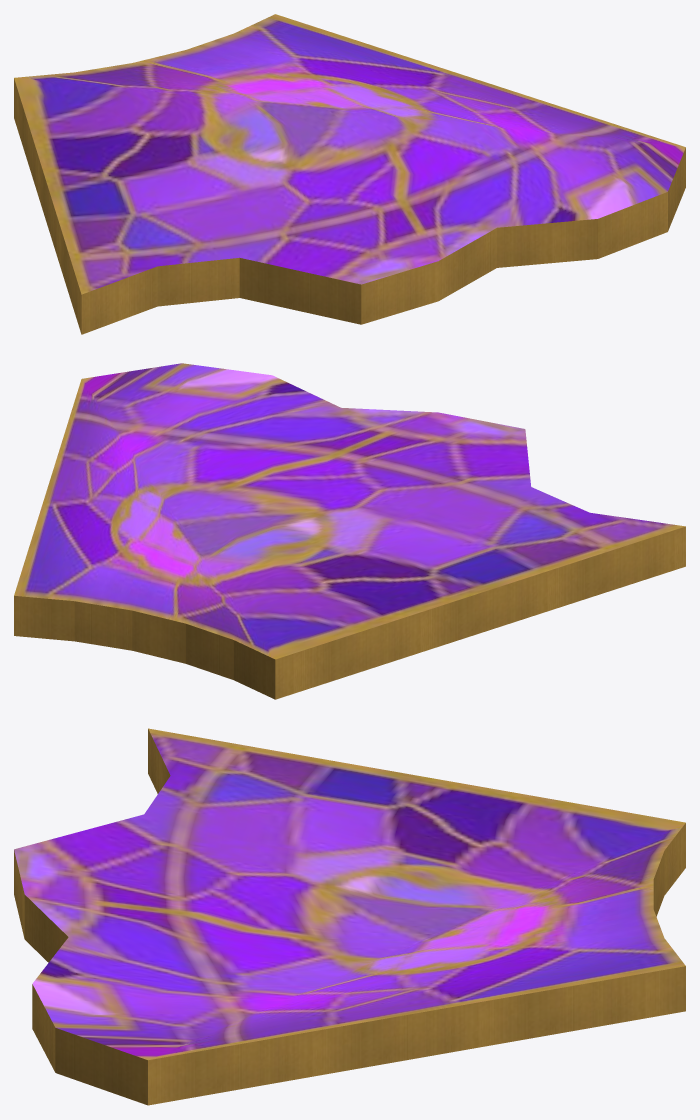
The model's file is lb_chunk_6_0.glb.
The picture shows the model from 3 angles, top to bottom: view 1: azimuth 30°, elevation 25°; view 2: azimuth 150°, elevation 25°; view 3: azimuth 270°, elevation 25°; orthographic projection. The views are drawn at different scales.
Parts seen in each view (by area): view 1: lb_chunk_6_0; view 2: lb_chunk_6_0; view 3: lb_chunk_6_0.
Boxes of the visible parts, left/top/right/bottom form: lb_chunk_6_0: left=14, top=14, right=685, bottom=334; lb_chunk_6_0: left=14, top=363, right=685, bottom=699; lb_chunk_6_0: left=14, top=728, right=685, bottom=1105.
Size of the model in its own units: 5.66 by 0.36 by 4.85.
Materials: 2 (2 with a texture image).
